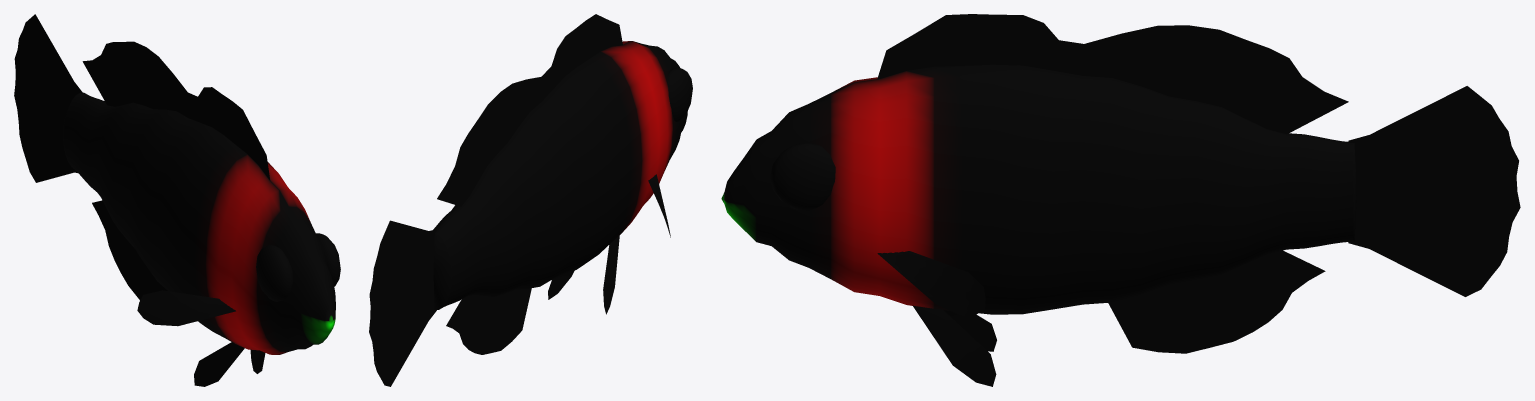
The model's file is ocellaris-clownfish.glb.
The picture shows the model from 3 angles, left to right: view 1: azimuth 30°, elevation 25°; view 2: azimuth 150°, elevation 25°; view 3: azimuth 270°, elevation 25°; orthographic projection. The views are drawn at different scales.
Visible parts, largest first — view 1: clown_body, clown_dorsal, clown_caudal, clown_pectoralL, clown_anal, clown_eyeL, clown_pelvicL, clown_eyeR; view 2: clown_body, clown_caudal, clown_dorsal, clown_anal, clown_eyeL, clown_pelvicL, clown_pectoralL, clown_pelvicR; view 3: clown_body, clown_caudal, clown_dorsal, clown_anal, clown_pectoralR, clown_eyeR, clown_pelvicR, clown_pelvicL.
Boxes of the visible parts, x1=… form: clown_body: x1=63, y1=92, x2=335, y2=354; clown_dorsal: x1=82, y1=41, x2=270, y2=180; clown_caudal: x1=14, y1=14, x2=82, y2=182; clown_pectoralL: x1=137, y1=290, x2=235, y2=326; clown_anal: x1=92, y1=200, x2=167, y2=300; clown_eyeL: x1=256, y1=245, x2=293, y2=301; clown_pelvicL: x1=194, y1=342, x2=244, y2=386; clown_eyeR: x1=316, y1=233, x2=340, y2=286; clown_body: x1=433, y1=41, x2=687, y2=310; clown_caudal: x1=369, y1=220, x2=436, y2=386; clown_dorsal: x1=437, y1=14, x2=622, y2=206; clown_anal: x1=446, y1=288, x2=531, y2=354; clown_eyeL: x1=667, y1=67, x2=692, y2=121; clown_pelvicL: x1=603, y1=236, x2=619, y2=314; clown_pectoralL: x1=648, y1=174, x2=670, y2=237; clown_pelvicR: x1=548, y1=270, x2=574, y2=299; clown_body: x1=721, y1=64, x2=1356, y2=314; clown_caudal: x1=1348, y1=86, x2=1520, y2=296; clown_dorsal: x1=877, y1=14, x2=1348, y2=134; clown_anal: x1=1108, y1=250, x2=1325, y2=353; clown_pectoralR: x1=877, y1=251, x2=985, y2=316; clown_eyeR: x1=770, y1=143, x2=835, y2=210; clown_pelvicR: x1=913, y1=305, x2=996, y2=386; clown_pelvicL: x1=944, y1=310, x2=996, y2=351.
Size of the model in its own units: 0.4136 by 0.6202 by 1.26.
